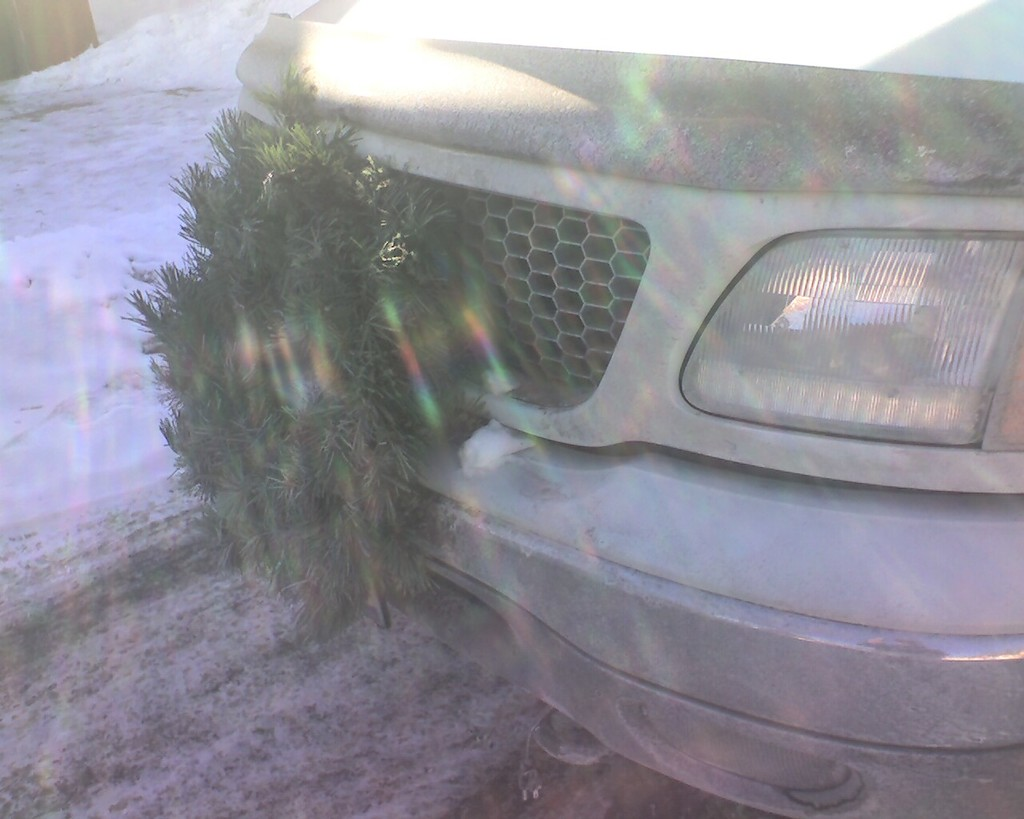Car: (240, 0, 1023, 818)
